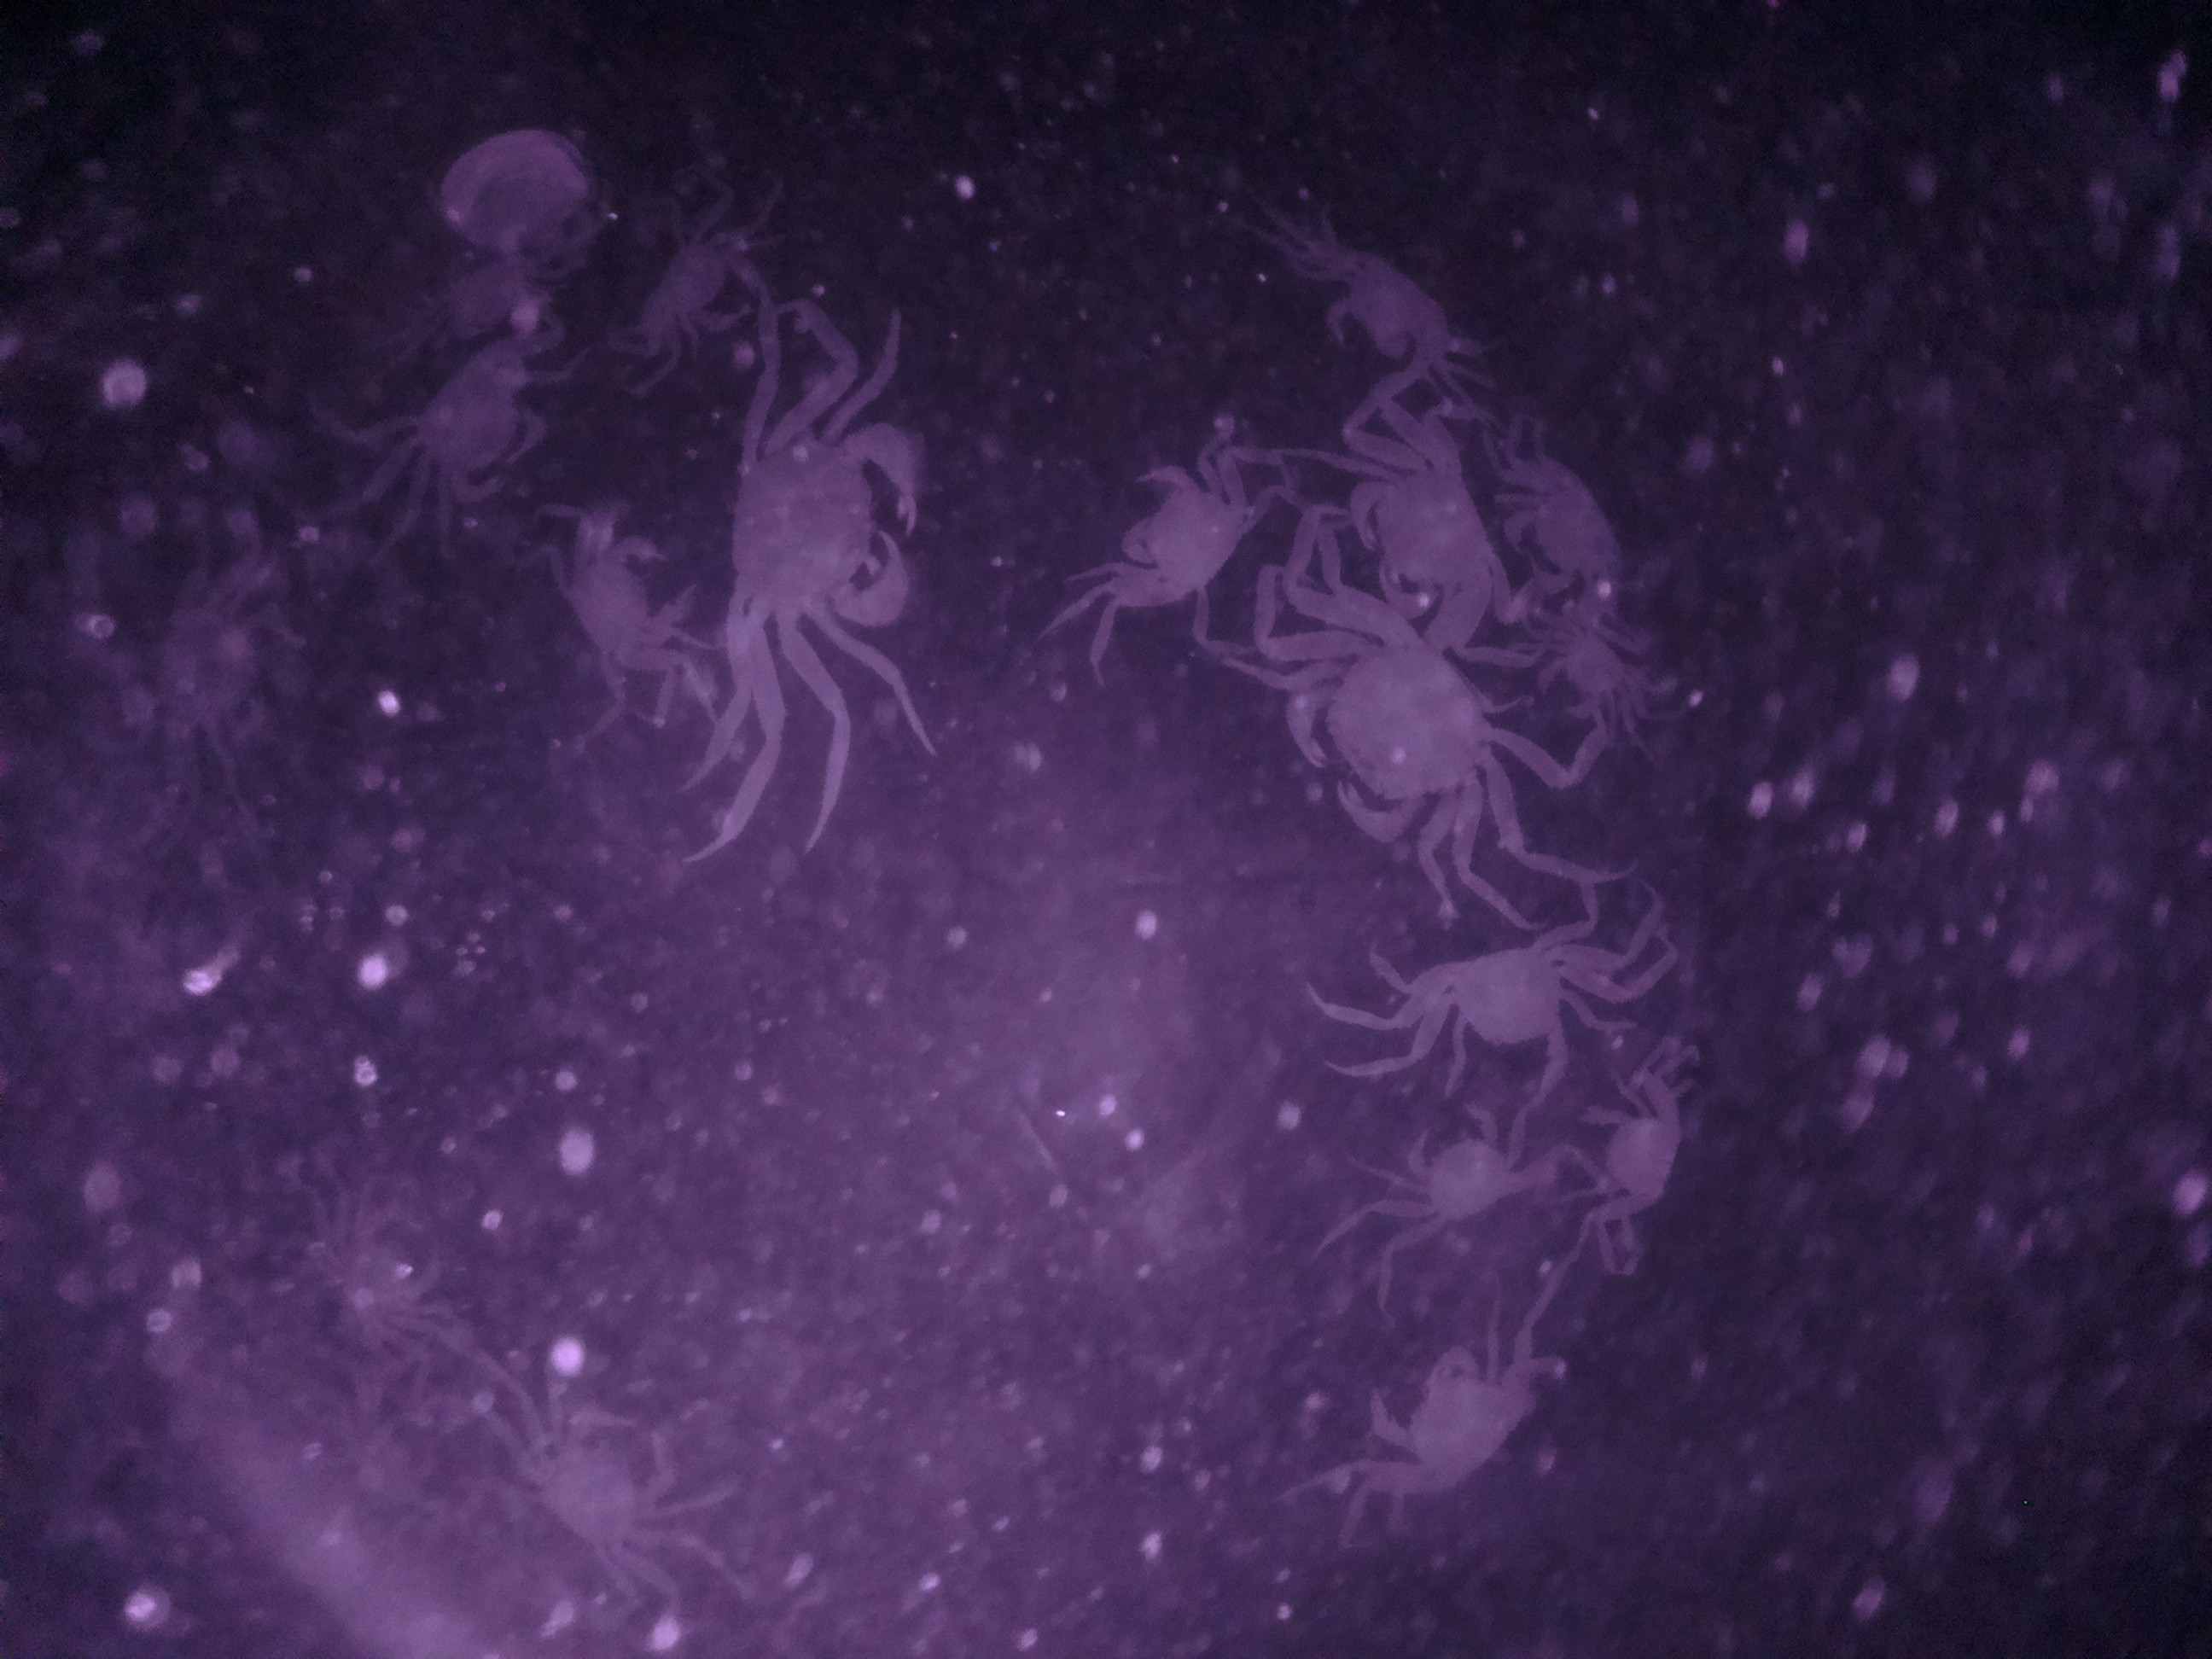Crab: (1275, 573, 1519, 870), (726, 382, 942, 688), (1360, 1317, 1555, 1520), (1090, 416, 1263, 633), (1399, 915, 1609, 1082), (1482, 429, 1642, 619), (545, 505, 695, 688), (1374, 1094, 1538, 1249), (1575, 1079, 1709, 1244)
